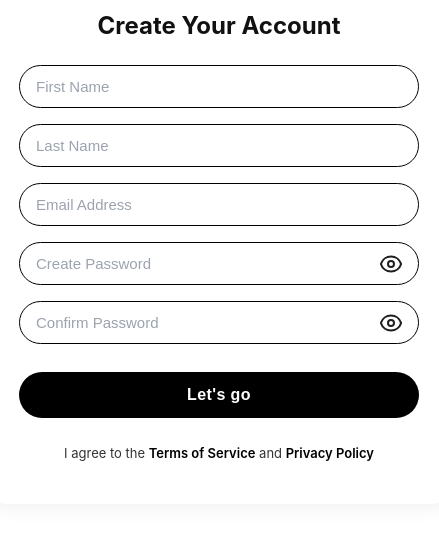
Test: RegistrationForm › shows failure state with server error message when network error occurs
This screenshot has width=439, height=548.
Type "John" into the field with placeholder "First Name".
click(219, 87); type("John")  # box [19, 65, 419, 108]
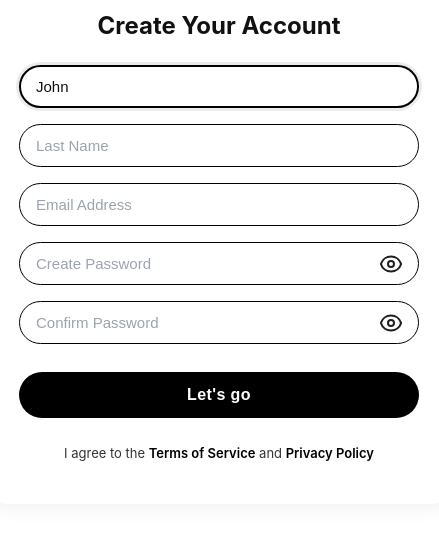
Type "Doe" into the field with placeholder "Last Name".
click(219, 146); type("Doe")  # box [19, 124, 419, 167]
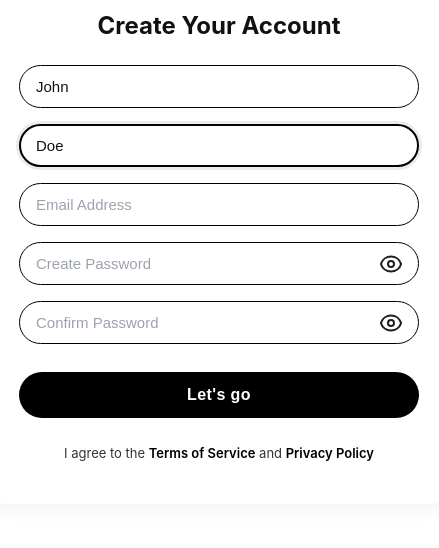
Type "john@gmail.com" into the field with placeholder "Email Address".
click(219, 205); type("john@gmail.com")  # box [19, 183, 419, 226]
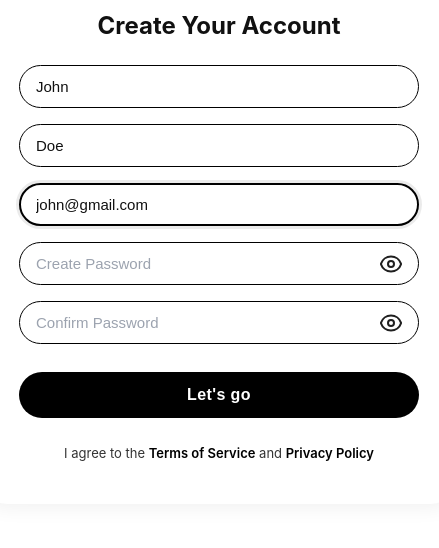
Type "Password123!" into the password field with placeholder "Create Password".
click(219, 264); type("Password123!")  # box [19, 242, 419, 285]
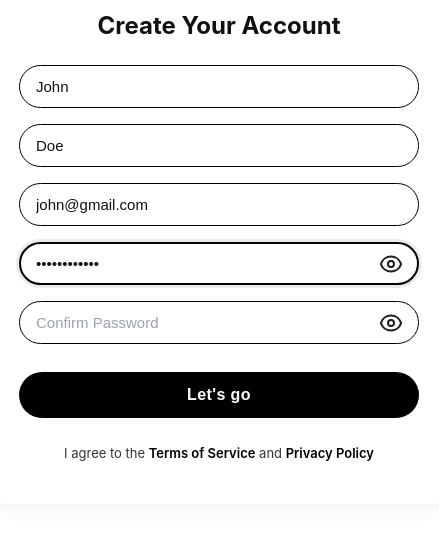
Type "Password123!" into the password field with placeholder "Confirm Password".
click(219, 323); type("Password123!")  # box [19, 301, 419, 344]
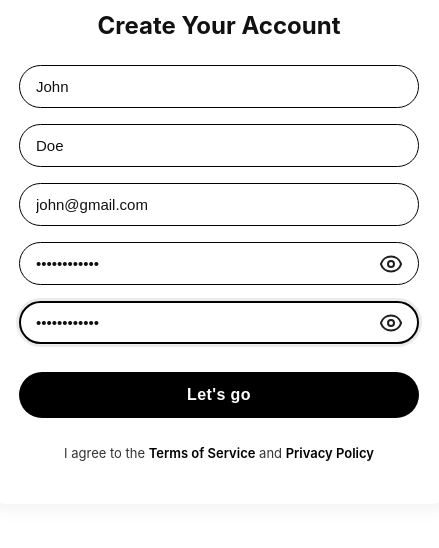
Click the button "Let's go".
click(219, 395)  # box [19, 372, 419, 418]
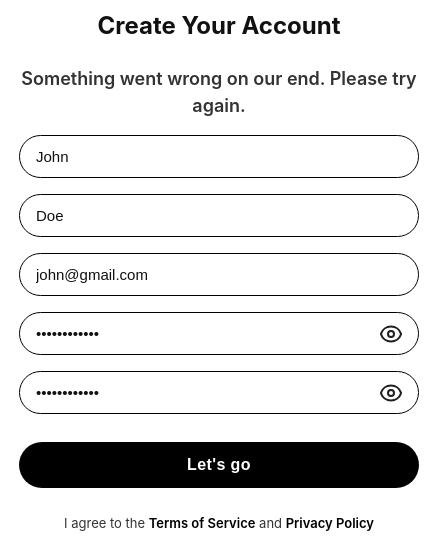
Now the text "Something went wrong on our end. Please try again." is shown, box [19, 65, 419, 119]
